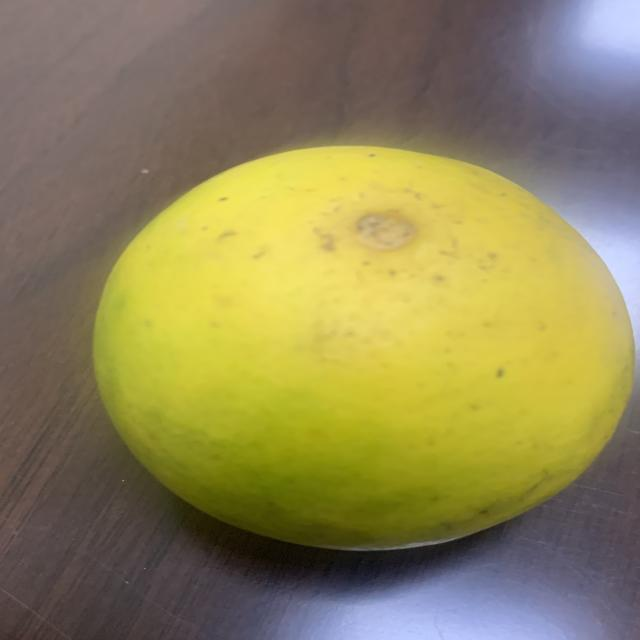Ripe orange: (70, 130, 637, 557)
